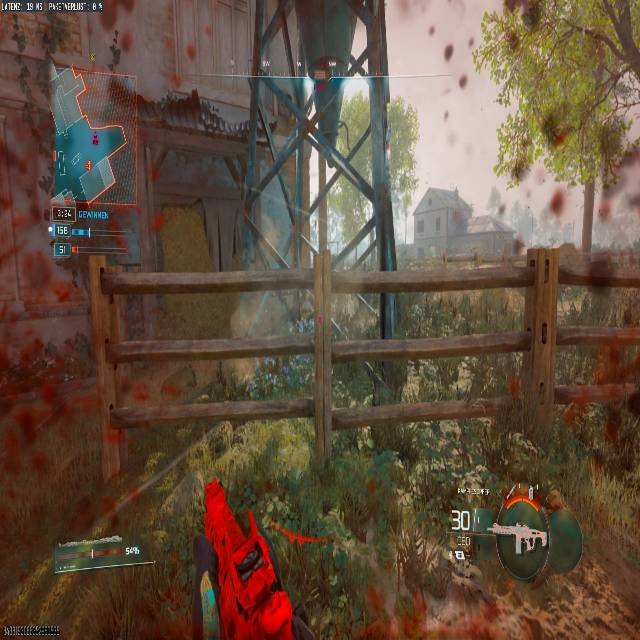head: (310, 56, 337, 89)
player: (303, 56, 344, 189)
